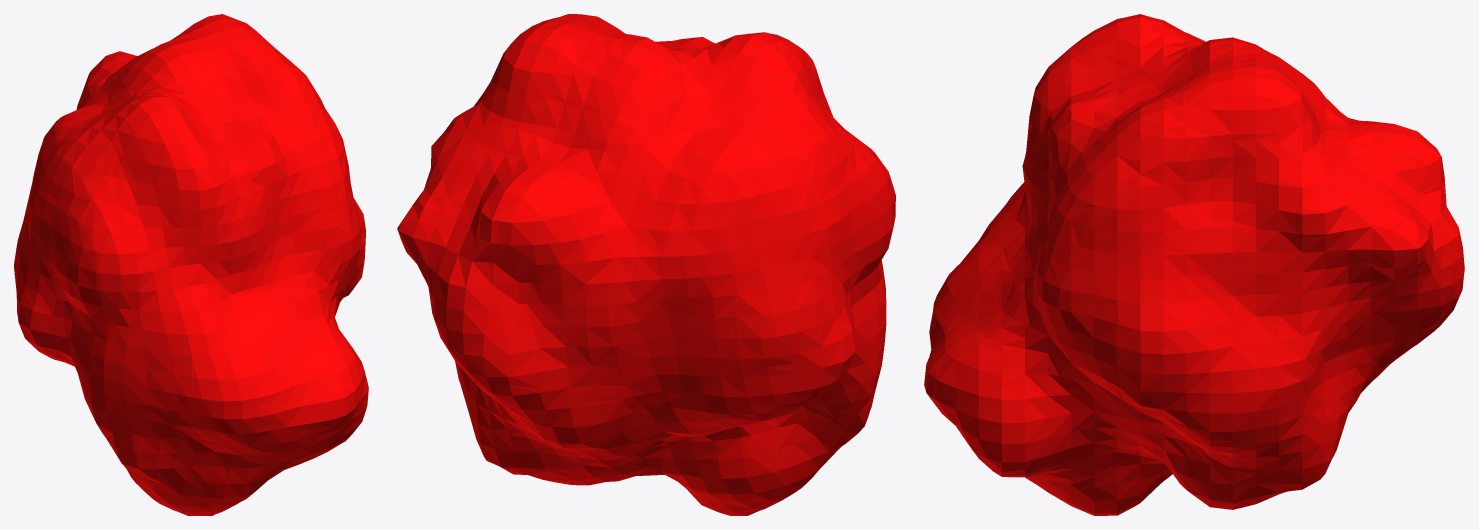
File: hchA_coarse.dae
3 views of the same model, side by side, from view 1: azimuth 30°, elevation 25°; view 2: azimuth 150°, elevation 25°; view 3: azimuth 270°, elevation 25° (orthographic). The views are drawn at different scales.
Visible parts, largest first — view 1: hchA; view 2: hchA; view 3: hchA.
Part boxes in pixels (box(x1,y1,x2,y2)): hchA: box(14, 14, 368, 515); hchA: box(397, 14, 895, 515); hchA: box(924, 14, 1464, 515).
Bounding box in the file's own units: 44.56 × 56.35 × 56.13.
